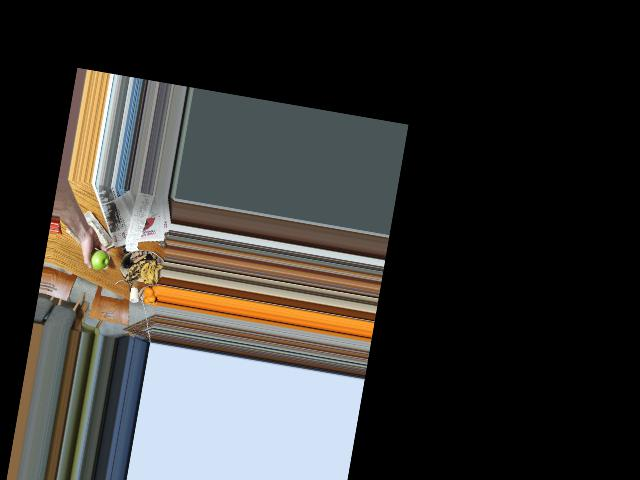apple: (85, 246, 109, 272)
